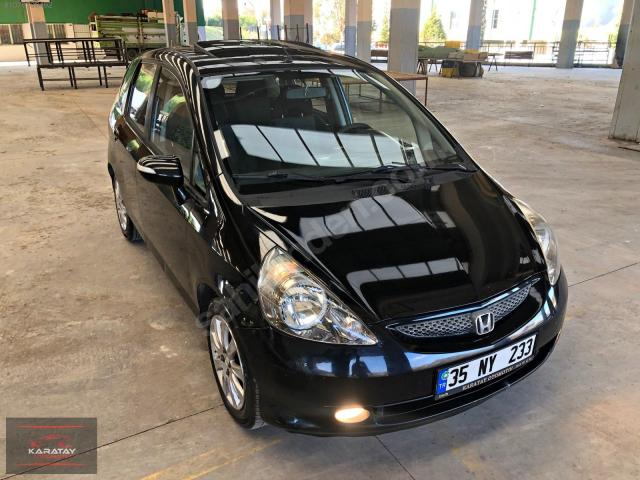plaka: (436, 335, 537, 398)
